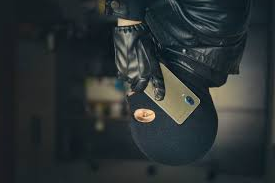terrorist: (105, 4, 259, 176)
